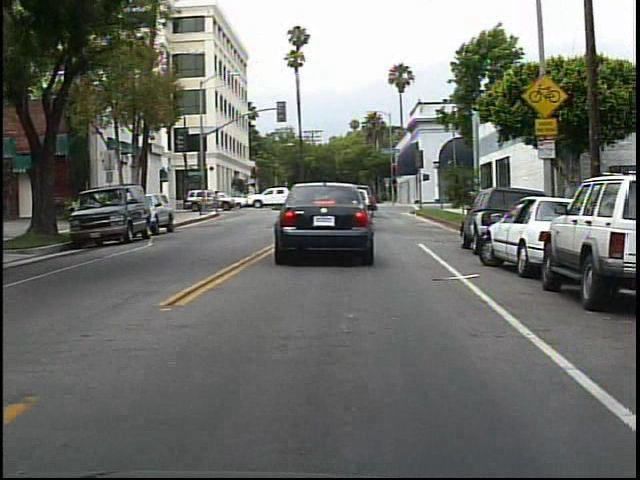person: (210, 188, 227, 219)
